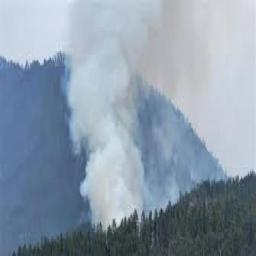Heavy smoke: (66, 2, 153, 238)
